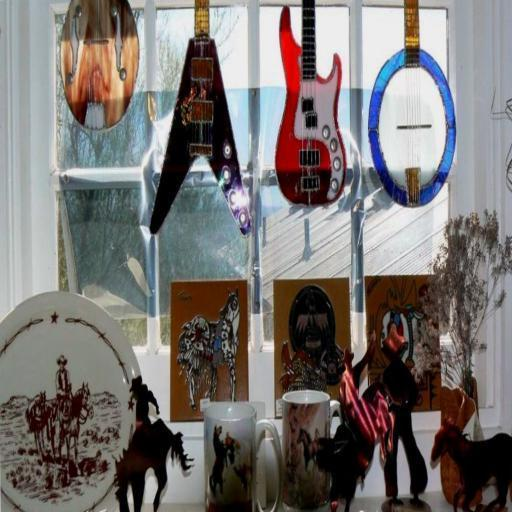horse: (316, 378, 404, 512), (177, 284, 241, 414), (112, 415, 196, 511), (428, 418, 512, 512), (50, 378, 96, 482), (208, 422, 235, 510), (295, 426, 322, 480), (33, 388, 50, 458)
